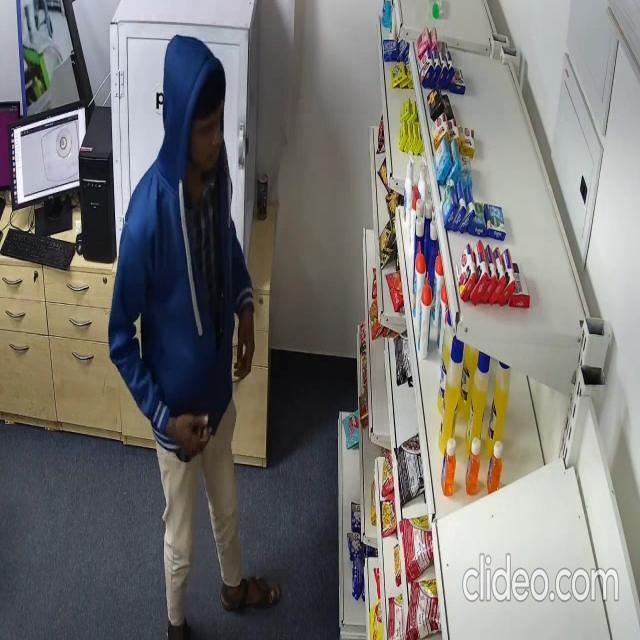normal: (110, 31, 275, 640)
